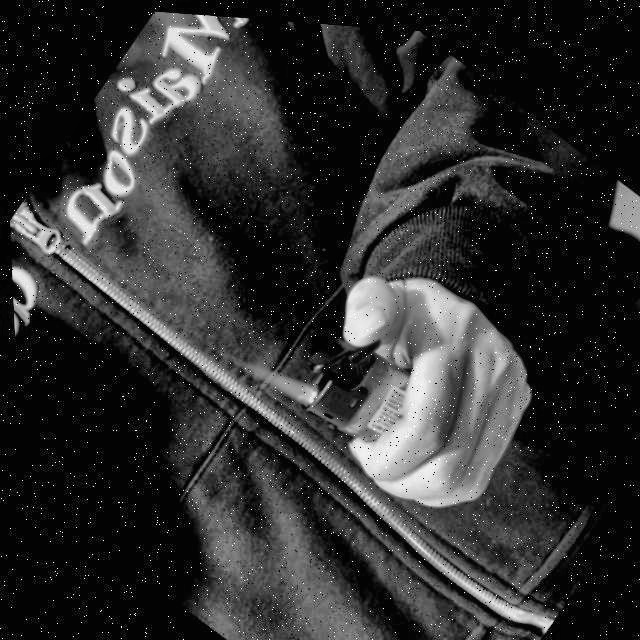Fire: (231, 338, 309, 408)
